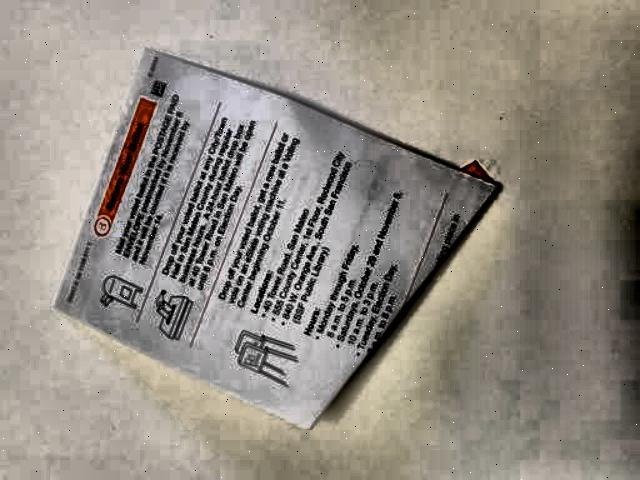Paper: (47, 40, 507, 434)
